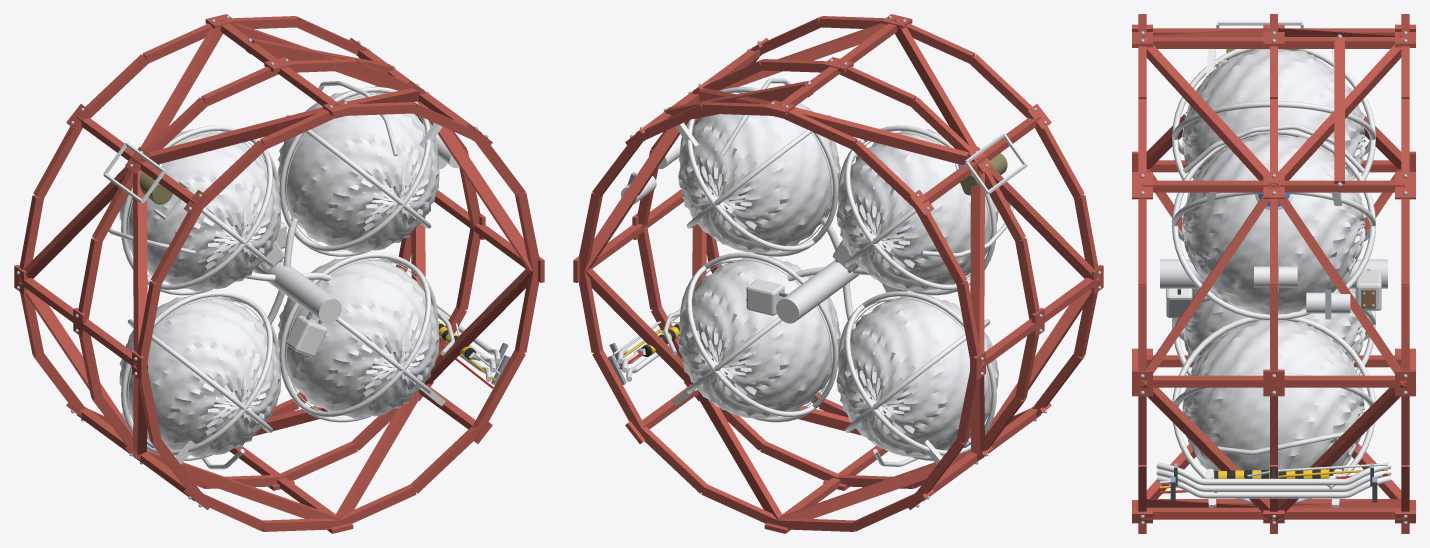
The model's file is tank-3-rcs.glb.
3 views of the same model, side by side, from view 1: azimuth 30°, elevation 25°; view 2: azimuth 150°, elevation 25°; view 3: azimuth 270°, elevation 25° (orthographic). The views are drawn at different scales.
Visible parts, largest first — view 1: rcs_red_box_truss, rcs_sphere_0_0, rcs_sphere_0_2, rcs_sphere_0_3, rcs_sphere_0_1, manifold_spine, rcs_sphere_cage_0_3_0, rcs_sphere_cage_0_3_1, rcs_surface_gas_lines, rcs_sphere_cage_0_2_0, rcs_sphere_cage_0_2_2, rcs_sphere_cage_0_0_0 (+11 smaller); view 2: rcs_red_box_truss, rcs_sphere_0_3, rcs_sphere_0_2, rcs_sphere_0_0, rcs_sphere_0_1, manifold_spine, rcs_sphere_cage_0_3_0, rcs_sphere_cage_0_3_1, rcs_surface_gas_lines, rcs_sphere_cage_0_2_0, rcs_sphere_cage_0_2_2, rcs_sphere_cage_0_1_1 (+11 smaller); view 3: rcs_red_box_truss, rcs_sphere_0_0, rcs_sphere_0_3, rcs_sphere_0_1, rcs_white_external_pipe_bundle, rcs_sphere_0_2, rcs_sphere_cage_0_0_1, rcs_sphere_cage_0_3_2, rcs_sphere_cage_0_1_2, rcs_small_white_cylinders, rcs_surface_gas_lines, manifold_spine (+12 smaller).
Part boxes in pixels (bbox=[...]): rcs_red_box_truss: bbox=[14, 14, 544, 533]; rcs_sphere_0_0: bbox=[278, 90, 439, 253]; rcs_sphere_0_2: bbox=[119, 295, 280, 457]; rcs_sphere_0_3: bbox=[278, 256, 439, 418]; rcs_sphere_0_1: bbox=[119, 129, 280, 291]; manifold_spine: bbox=[253, 260, 341, 323]; rcs_sphere_cage_0_3_0: bbox=[279, 252, 437, 422]; rcs_sphere_cage_0_3_1: bbox=[286, 258, 431, 417]; rcs_surface_gas_lines: bbox=[108, 81, 454, 469]; rcs_sphere_cage_0_2_0: bbox=[121, 291, 279, 460]; rcs_sphere_cage_0_2_2: bbox=[128, 297, 272, 455]; rcs_sphere_cage_0_0_0: bbox=[279, 87, 437, 256]; rcs_red_box_truss: bbox=[573, 14, 1103, 533]; rcs_sphere_0_3: bbox=[678, 256, 840, 418]; rcs_sphere_0_2: bbox=[836, 295, 998, 457]; rcs_sphere_0_0: bbox=[678, 92, 840, 252]; rcs_sphere_0_1: bbox=[836, 128, 998, 291]; manifold_spine: bbox=[776, 260, 859, 323]; rcs_sphere_cage_0_3_0: bbox=[680, 252, 838, 422]; rcs_sphere_cage_0_3_1: bbox=[686, 258, 830, 417]; rcs_surface_gas_lines: bbox=[663, 78, 1013, 466]; rcs_sphere_cage_0_2_0: bbox=[838, 291, 996, 460]; rcs_sphere_cage_0_2_2: bbox=[845, 297, 988, 455]; rcs_sphere_cage_0_1_1: bbox=[845, 131, 988, 290]; rcs_red_box_truss: bbox=[1132, 14, 1415, 533]; rcs_sphere_0_0: bbox=[1182, 133, 1365, 314]; rcs_sphere_0_3: bbox=[1182, 319, 1365, 475]; rcs_sphere_0_1: bbox=[1182, 49, 1365, 179]; rcs_white_external_pipe_bundle: bbox=[1156, 462, 1391, 498]; rcs_sphere_0_2: bbox=[1182, 288, 1365, 364]; rcs_sphere_cage_0_0_1: bbox=[1172, 129, 1375, 320]; rcs_sphere_cage_0_3_2: bbox=[1172, 317, 1375, 503]; rcs_sphere_cage_0_1_2: bbox=[1172, 49, 1375, 180]; rcs_small_white_cylinders: bbox=[1254, 266, 1350, 313]; rcs_surface_gas_lines: bbox=[1183, 112, 1364, 455]; manifold_spine: bbox=[1160, 259, 1387, 288].
Bounding box in the file's own units: 6.01 × 6.02 × 3.24.
